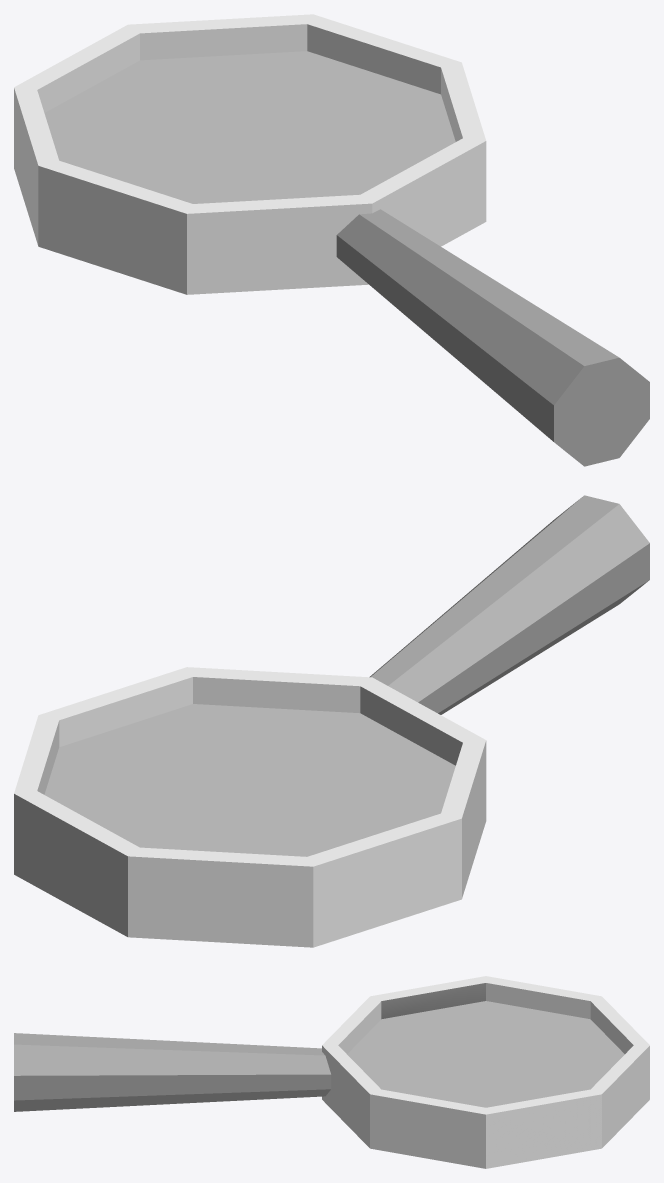
Rendered from Kaca Pembesar.fbx.
3 renders of one model, top to bottom at view 1: azimuth 30°, elevation 25°; view 2: azimuth 150°, elevation 25°; view 3: azimuth 270°, elevation 25°, orthographic. The views are drawn at different scales.
Parts seen in each view (by area): view 1: Cube.004; view 2: Cube.004; view 3: Cube.004.
Boxes of the visible parts, box(x1,y1,x2,y2) form: Cube.004: box(14, 14, 649, 466); Cube.004: box(14, 495, 649, 947); Cube.004: box(14, 976, 649, 1168).
Size of the model in its own units: 32.42 by 7.35 by 62.88.
2 materials, 2 textured.
